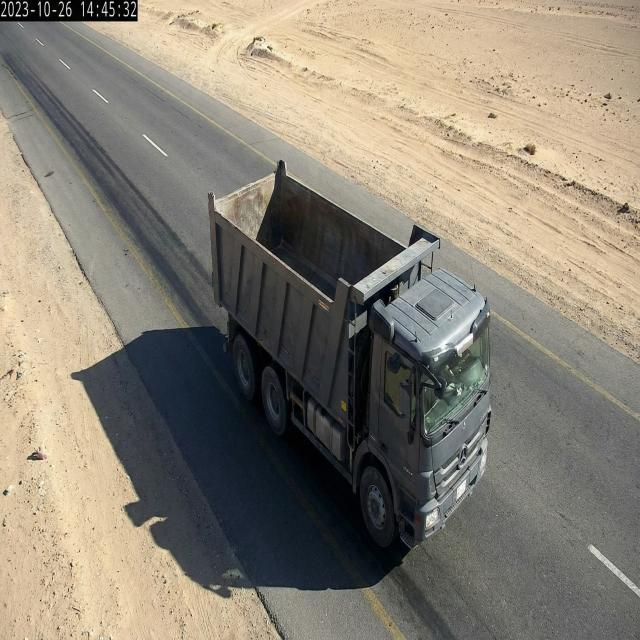Box: (206, 162, 443, 298)
Truck: (196, 123, 499, 549)
